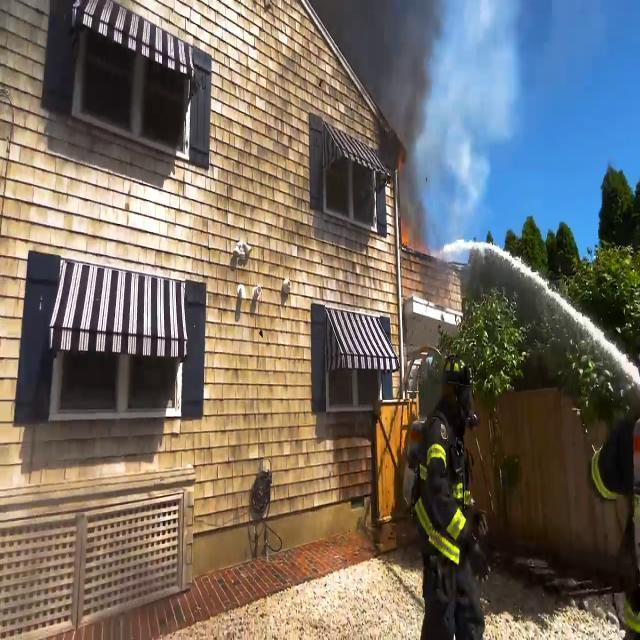Fire: (396, 216, 414, 256)
Smoke: (359, 0, 447, 213)
